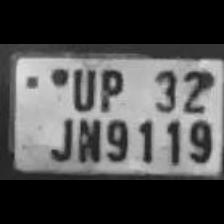1: (131, 114, 158, 164), (156, 116, 183, 164)
2: (178, 65, 214, 113)
3: (149, 64, 179, 112)
9: (182, 116, 212, 164), (100, 114, 128, 162)
J: (44, 111, 74, 164)
N: (72, 114, 102, 162)
P: (95, 64, 125, 110)
U: (68, 64, 96, 112)
